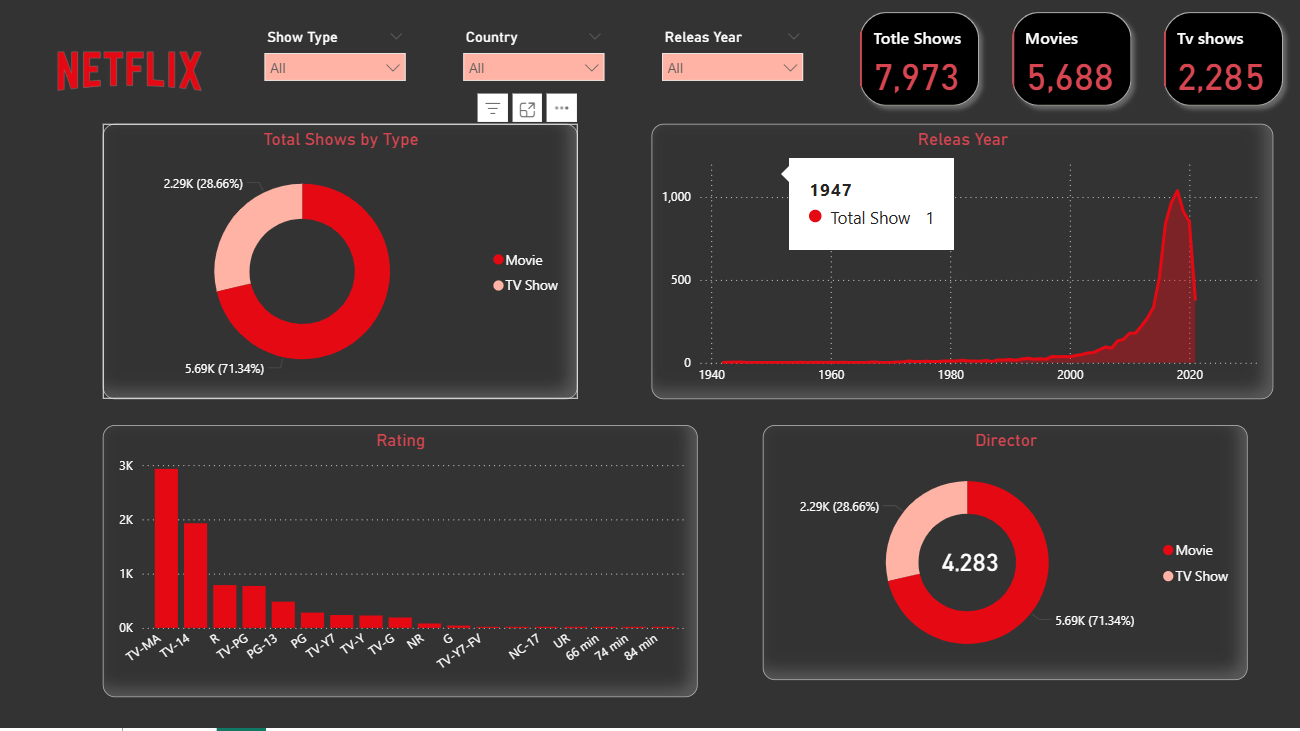

This screenshot's page, from the dashboard's own definition file:
{"tool":"powerbi","page":{"name":"Page 1","canvas":[1280,720],"ordinal":0},"visuals":[{"type":"cardVisual","fields":{"Data":["Measure.Totle Shows","Measure.Movies","Measure.Tv shows"]},"box":[828.2,0,451.5,126.4],"z":0},{"type":"donutChart","title":"Total Shows by Type","fields":{"Category":["netflix_titles (1).type"],"Y":["CountNonNull(netflix_titles (1).show_id)"]},"box":[101.2,126.2,466.2,270],"z":1000},{"type":"areaChart","title":"Releas Year","fields":{"Category":["netflix_titles (1).release_year"],"Y":["CountNonNull(netflix_titles (1).show_id)"]},"box":[640,126.2,610,270],"z":2000},{"type":"donutChart","title":"Director","fields":{"Category":["netflix_titles (1).type"],"Y":["CountNonNull(netflix_titles (1).director)"]},"box":[750,422.5,476.2,250],"z":3000},{"type":"card","fields":{"Values":["Measure.Total Director"]},"box":[911.2,541.2,83.8,30],"z":4000},{"type":"columnChart","title":"Rating","fields":{"Category":["netflix_titles (1).rating"],"Y":["CountNonNull(netflix_titles (1).show_id)"]},"box":[101.2,422.5,583.8,267.5],"z":5000},{"type":"slicer","fields":{"Values":["netflix_titles (1).type"]},"box":[250,28.8,158.8,73.8],"z":6000},{"type":"slicer","fields":{"Values":["netflix_titles (1).release_year"]},"box":[640,28.8,158.8,73.8],"z":7000},{"type":"image","box":[47.5,23.8,160,102.5],"z":8000},{"type":"slicer","fields":{"Values":["netflix_titles (1).country"]},"box":[445,28.8,158.8,73.8],"z":9000}]}

Visuals, with their boxes in screenshot pixels (x1, y1, x2, y2), scaled from the page's 1280x720 canvas onto the 1300x731 screenshot:
cardVisual - Measure.Totle Shows x Measure.Movies: pyautogui.locateOnScreen(841, 0, 1299, 128)
"Total Shows by Type" donutChart: pyautogui.locateOnScreen(103, 128, 576, 402)
"Releas Year" areaChart: pyautogui.locateOnScreen(650, 128, 1270, 402)
"Director" donutChart: pyautogui.locateOnScreen(762, 429, 1245, 683)
card - Measure.Total Director: pyautogui.locateOnScreen(925, 549, 1011, 580)
"Rating" columnChart: pyautogui.locateOnScreen(103, 429, 696, 701)
slicer - netflix_titles (1).type: pyautogui.locateOnScreen(254, 29, 415, 104)
slicer - netflix_titles (1).release_year: pyautogui.locateOnScreen(650, 29, 811, 104)
image: pyautogui.locateOnScreen(48, 24, 211, 128)
slicer - netflix_titles (1).country: pyautogui.locateOnScreen(452, 29, 613, 104)
